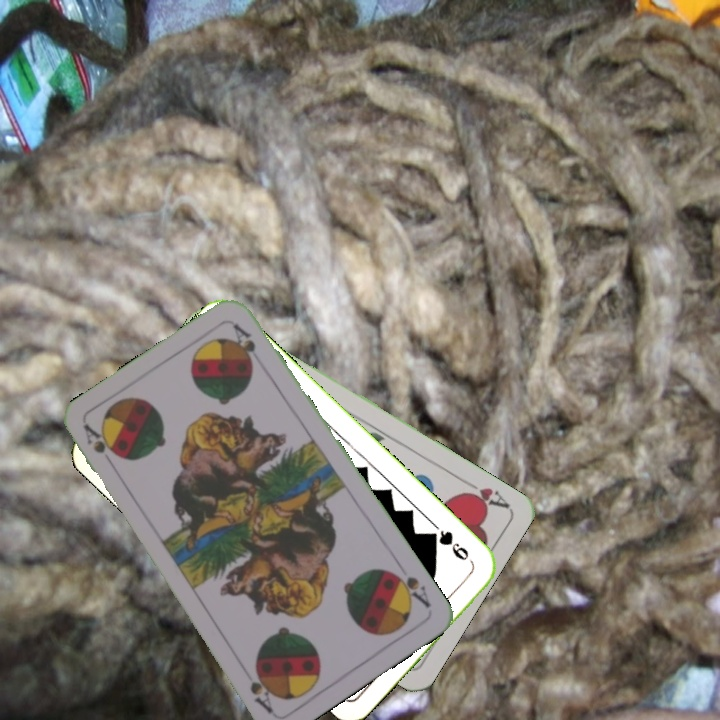G9: (425, 526, 472, 564)
HA: (457, 474, 512, 512)
SA: (385, 559, 434, 611), (80, 420, 119, 473)
